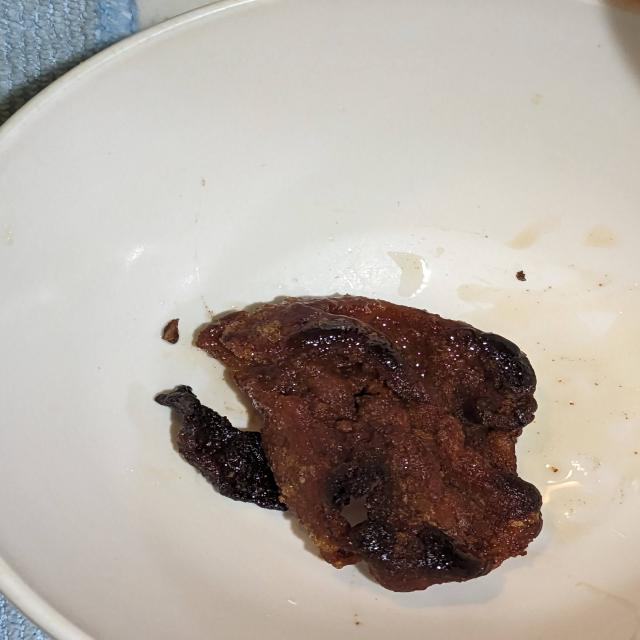overcooked pork: (148, 284, 561, 599)
